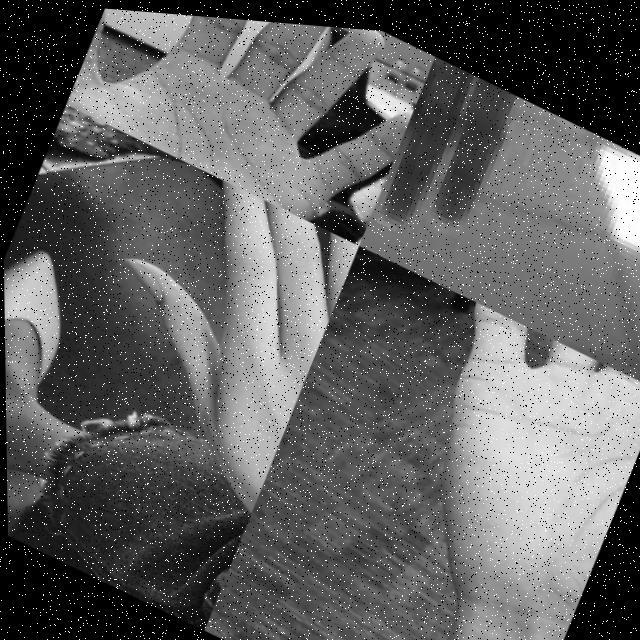no-gloves: (34, 142, 362, 570), (330, 272, 640, 640), (64, 4, 437, 244), (358, 44, 596, 314)
